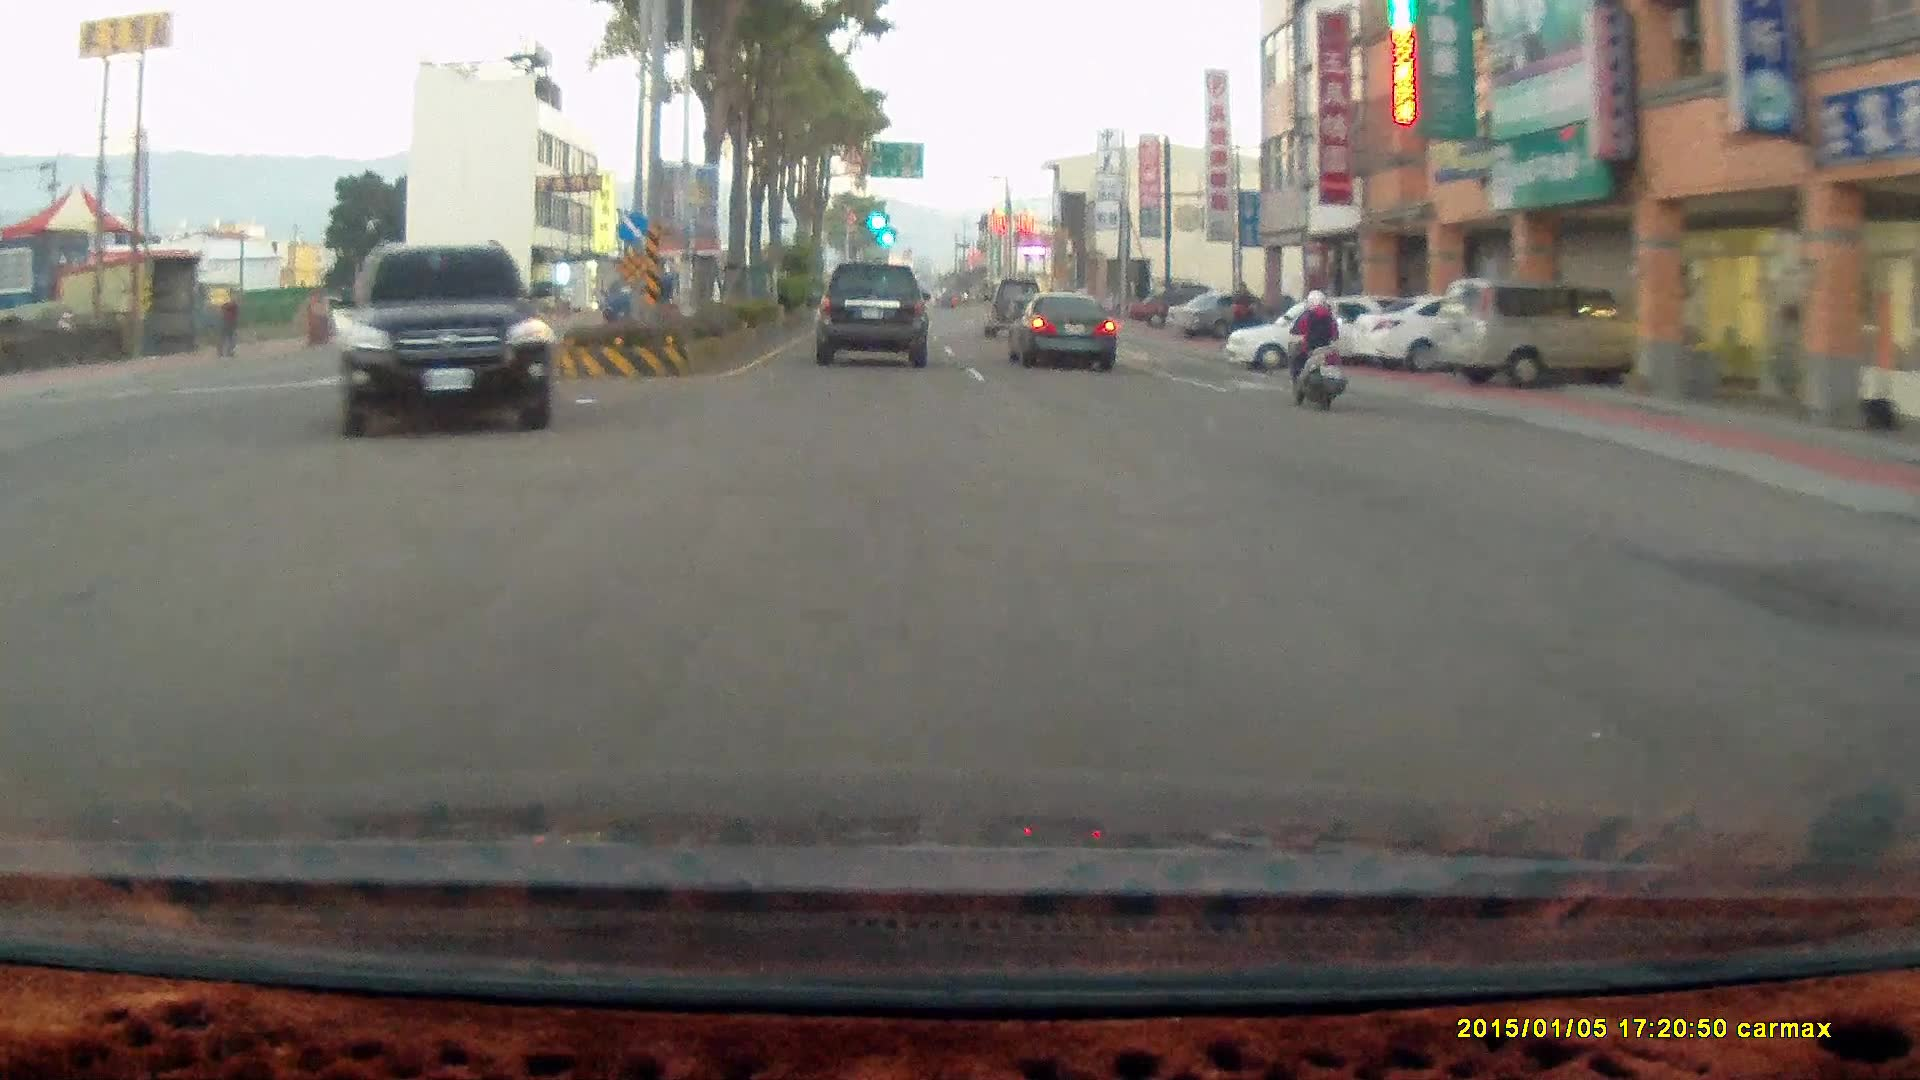pedestrian: (1229, 280, 1258, 346), (215, 290, 239, 362)
rider: (1276, 285, 1355, 417), (1283, 292, 1347, 415)
vehicle: (329, 243, 555, 437), (339, 242, 558, 441), (1428, 277, 1665, 386), (1452, 281, 1644, 396), (1350, 296, 1551, 381), (1352, 290, 1556, 372), (1227, 302, 1414, 377), (1224, 295, 1405, 373), (811, 260, 936, 371), (814, 262, 930, 367), (1008, 300, 1127, 379), (1006, 291, 1116, 372), (1164, 292, 1269, 337), (979, 279, 1047, 337), (1127, 288, 1219, 328)
